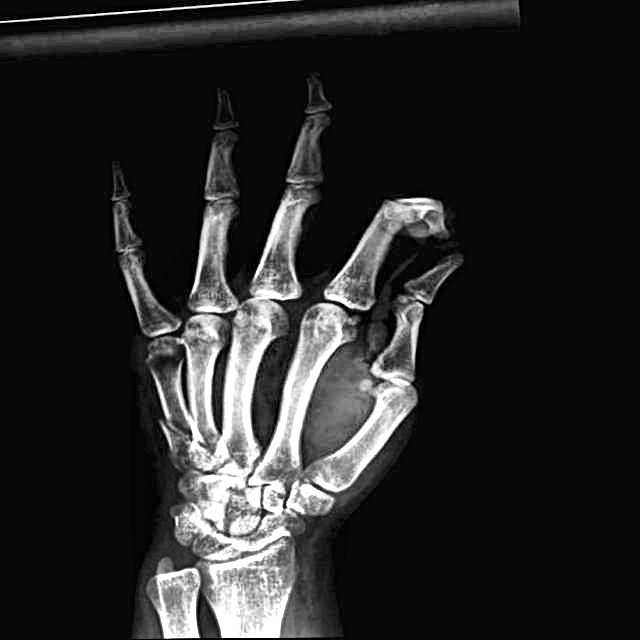Comminuted: (384, 179, 464, 250)
Oblique Displaced: (141, 389, 211, 462)
